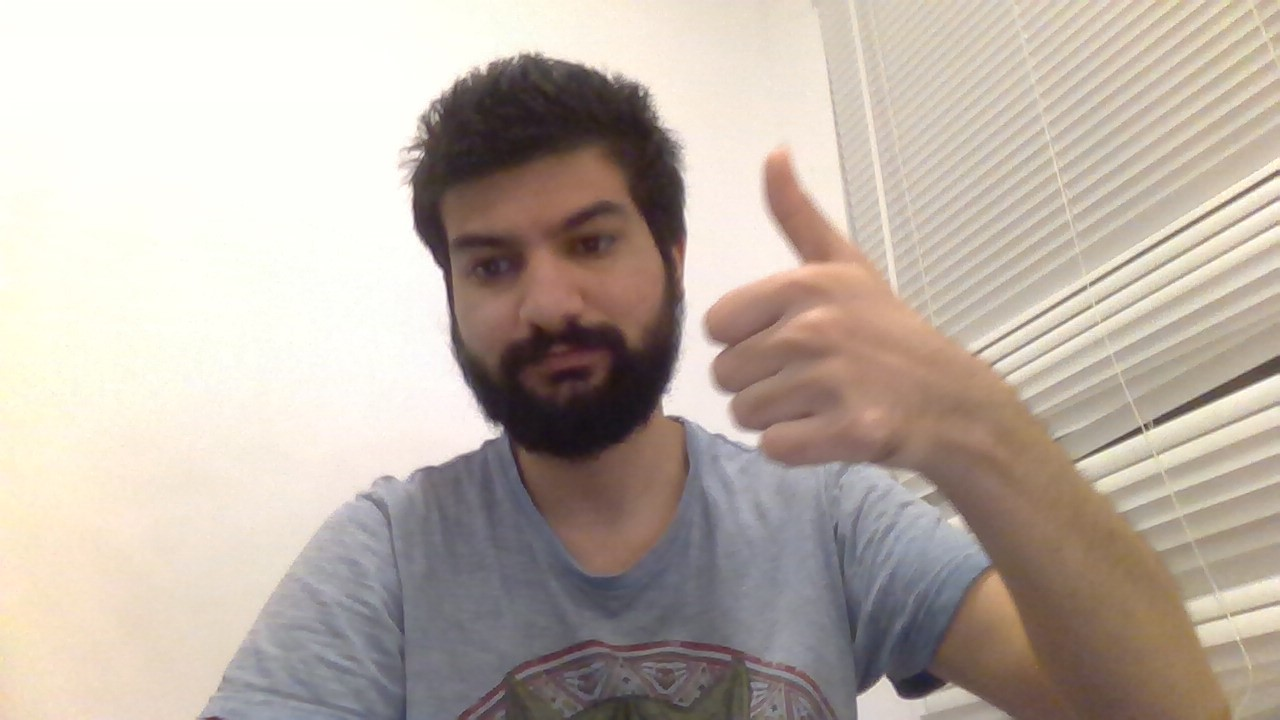up: (696, 138, 912, 475)
